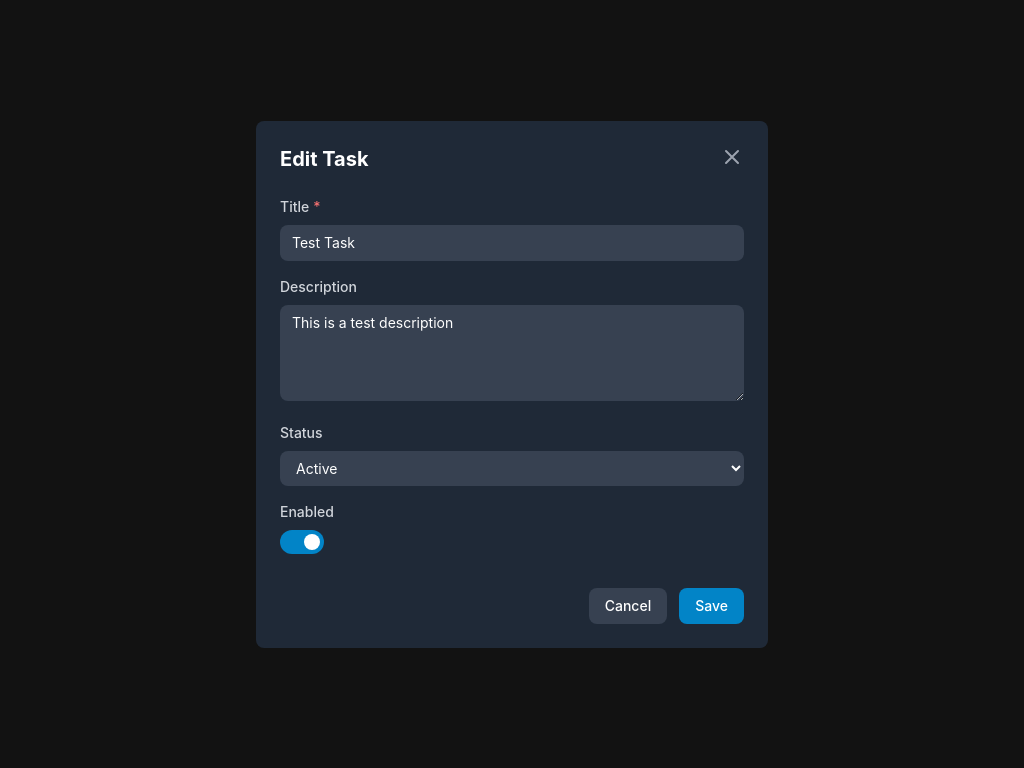
Test case: EditModal › Save Functionality › should display generic error message when error has no message
The image size is (1024, 768).
Click the button "Save".
click(712, 606)  # box [679,588,744,624]
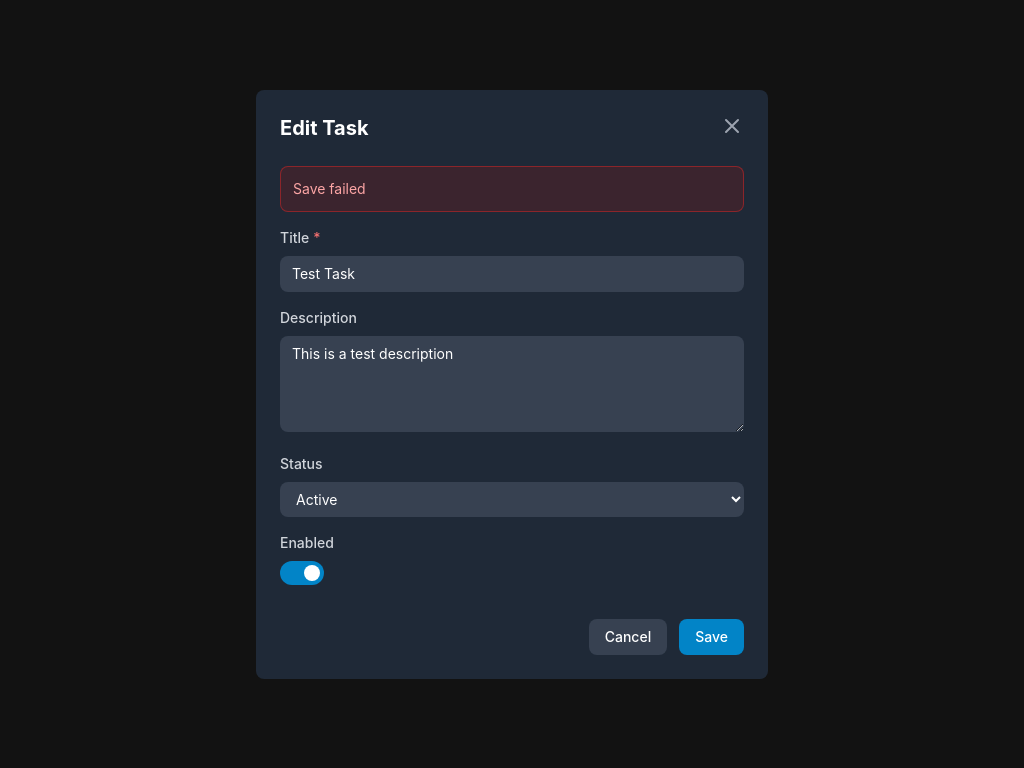
Check: the text "Save failed" is shown, box [293,180,366,196]
